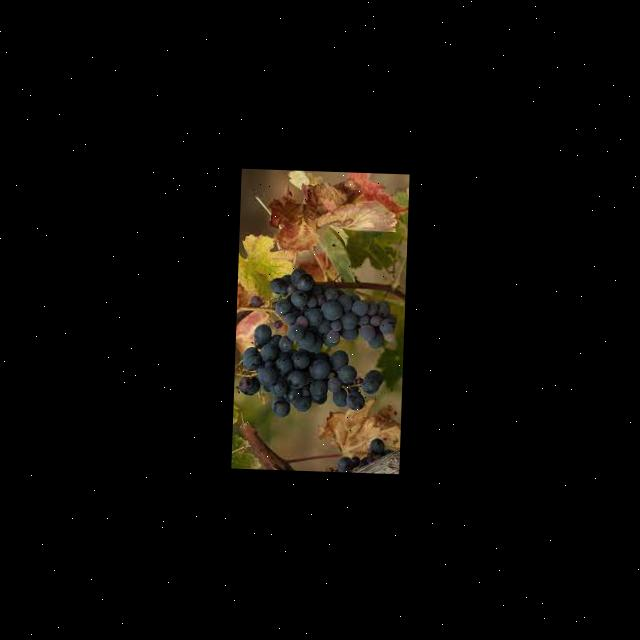grape: (238, 327, 386, 421), (268, 266, 399, 351)
